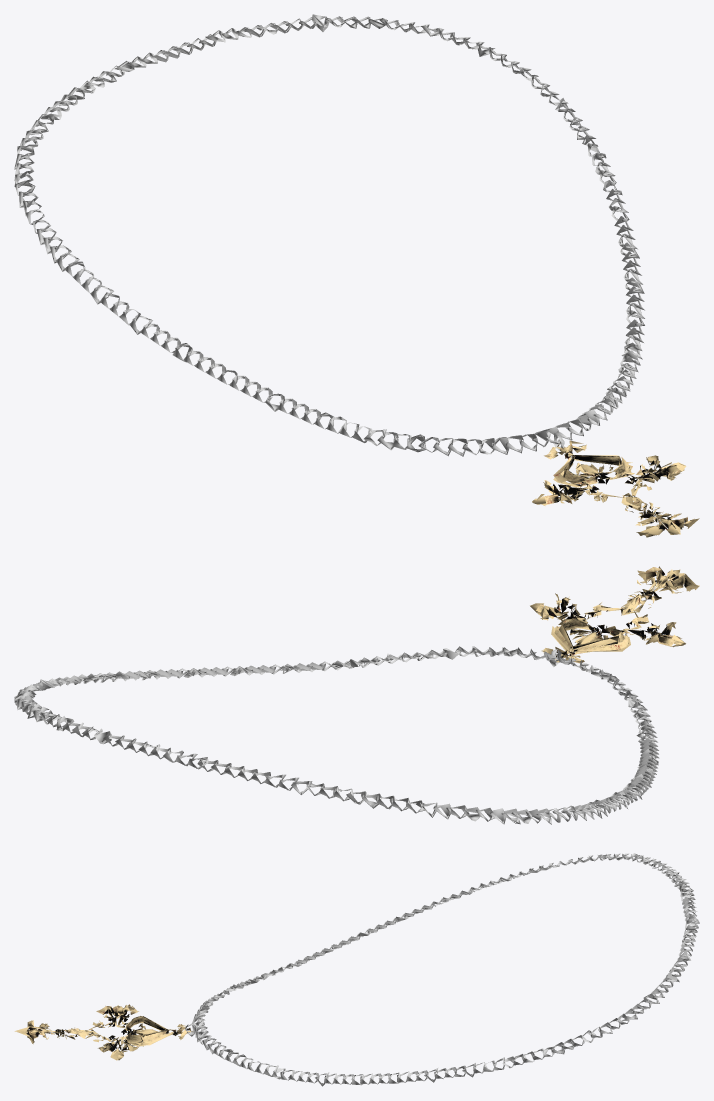
Rendered from pendant_gothic.glb.
3 views of the same model, one above another, from view 1: azimuth 30°, elevation 25°; view 2: azimuth 150°, elevation 25°; view 3: azimuth 270°, elevation 25° (orthographic). The views are drawn at different scales.
Parts seen in each view (by area): view 1: chain1_M_Chrome_0, PendantGothic_M_Pendant_LP_0; view 2: chain1_M_Chrome_0, PendantGothic_M_Pendant_LP_0; view 3: chain1_M_Chrome_0, PendantGothic_M_Pendant_LP_0.
Part boxes in pixels (x1=…): chain1_M_Chrome_0: x1=14, y1=14, x2=644, y2=456; PendantGothic_M_Pendant_LP_0: x1=532, y1=440, x2=699, y2=537; chain1_M_Chrome_0: x1=14, y1=646, x2=659, y2=824; PendantGothic_M_Pendant_LP_0: x1=530, y1=566, x2=699, y2=663; chain1_M_Chrome_0: x1=192, y1=853, x2=699, y2=1086; PendantGothic_M_Pendant_LP_0: x1=14, y1=1004, x2=192, y2=1060.
Size of the model in its own units: 0.7459 by 0.224 by 1.14.
Materials: 2 (1 with a texture image).
